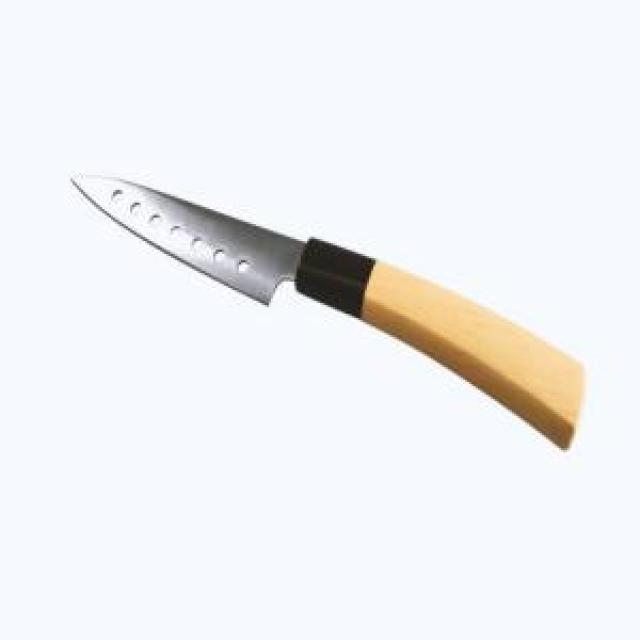knife: (64, 171, 588, 463)
